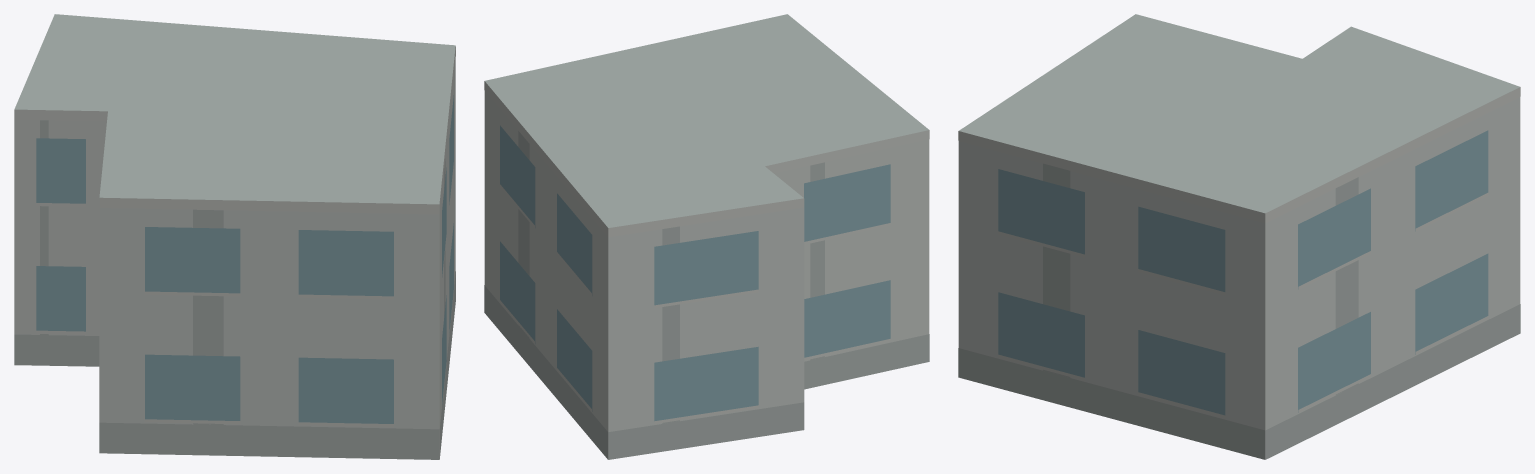
Rendered from residential-14072531-fb08-4750-8e7a-f01e6013b617.glb.
3 views of the same model, side by side, from view 1: azimuth 30°, elevation 25°; view 2: azimuth 150°, elevation 25°; view 3: azimuth 270°, elevation 25° (orthographic). The views are drawn at different scales.
Visible parts, largest first — view 1: residential-14072531-fb08-4750-8e7a-f01e6013b617.tmp; view 2: residential-14072531-fb08-4750-8e7a-f01e6013b617.tmp; view 3: residential-14072531-fb08-4750-8e7a-f01e6013b617.tmp.
Part boxes in pixels (x1=…): residential-14072531-fb08-4750-8e7a-f01e6013b617.tmp: x1=14, y1=14, x2=455, y2=459; residential-14072531-fb08-4750-8e7a-f01e6013b617.tmp: x1=484, y1=14, x2=929, y2=459; residential-14072531-fb08-4750-8e7a-f01e6013b617.tmp: x1=958, y1=14, x2=1520, y2=459.
Bounding box in the file's own units: 10.59 × 6.1 × 12.61.
